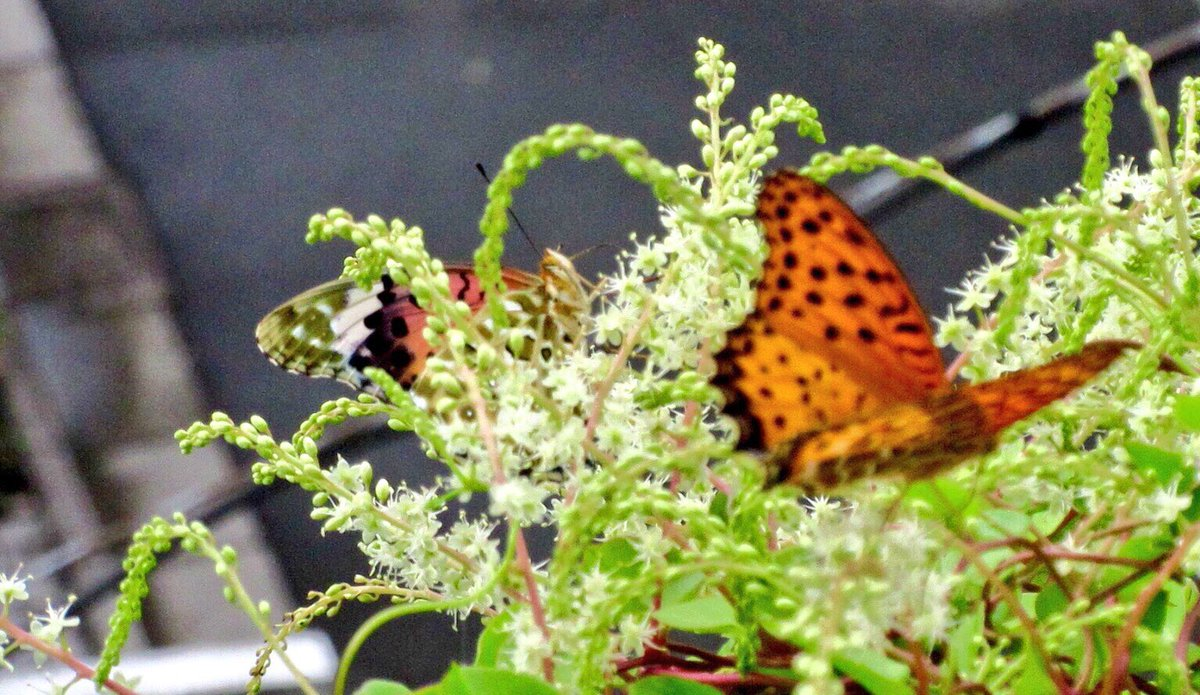Argyreus hyperbius: (711, 156, 1142, 503), (236, 160, 661, 437)
butterfly: (713, 158, 1144, 505), (238, 162, 663, 439)
